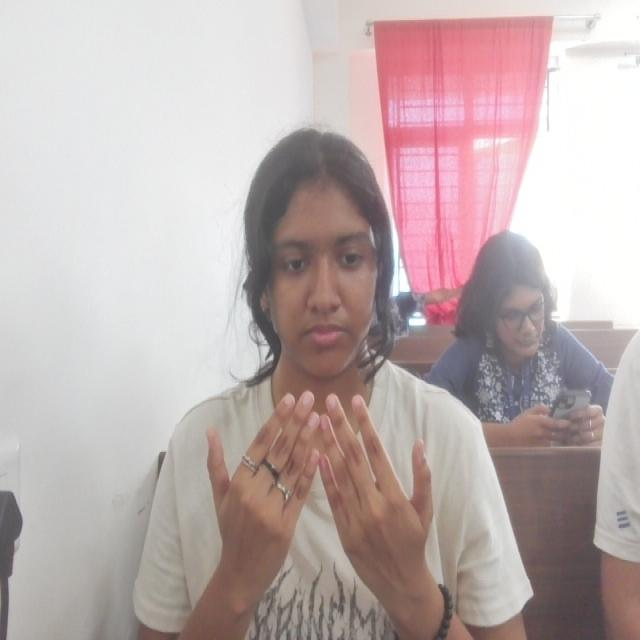thankyou: (198, 388, 435, 600)
